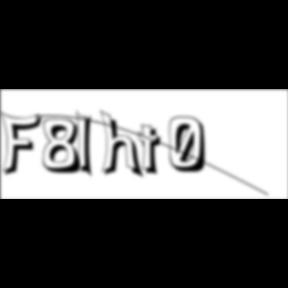0: (170, 115, 214, 174)
8: (42, 117, 88, 176)
F: (0, 110, 48, 178)
h: (101, 108, 148, 182)
l: (76, 108, 100, 182)
t: (138, 124, 168, 179)
